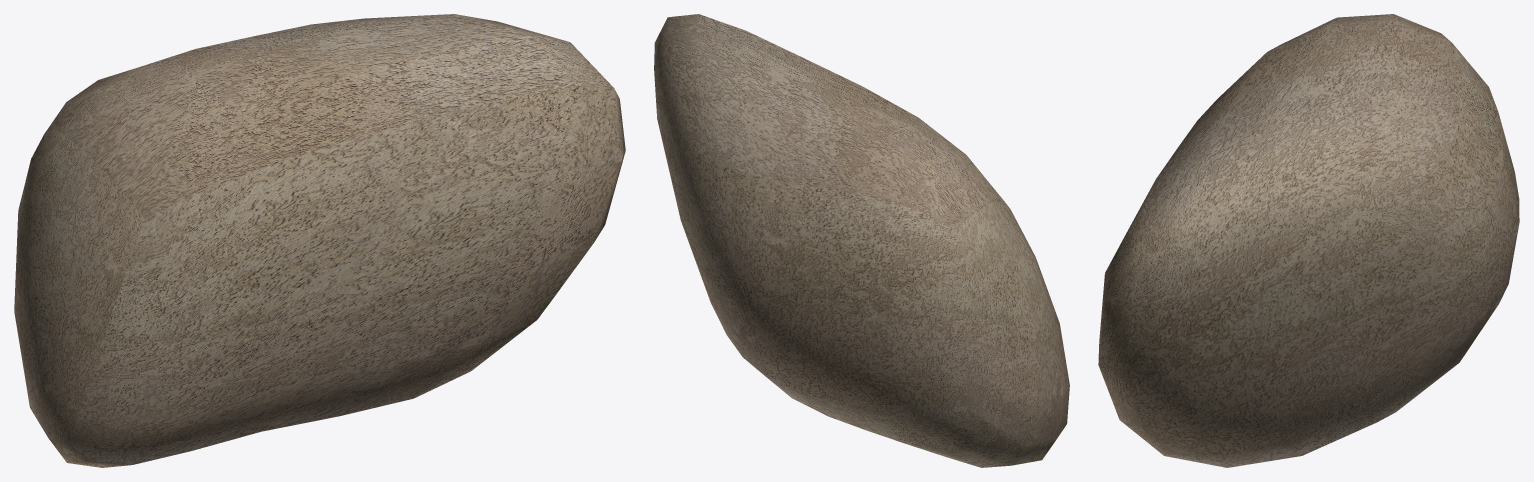
The model's file is Rock.fbx.
3 views of the same model, side by side, from view 1: azimuth 30°, elevation 25°; view 2: azimuth 150°, elevation 25°; view 3: azimuth 270°, elevation 25° (orthographic). The views are drawn at different scales.
Visible parts, largest first — view 1: Rock1; view 2: Rock1; view 3: Rock1.
Boxes of the visible parts, x1,y1,x2,y2 form: Rock1: (14, 14, 625, 467); Rock1: (654, 14, 1069, 467); Rock1: (1098, 14, 1519, 467).
Size of the model in its own units: 506 by 356 by 330.
